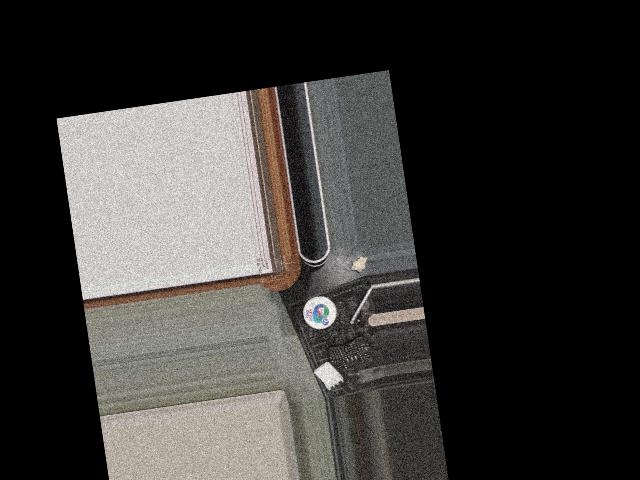cotage: (294, 292, 339, 333)
